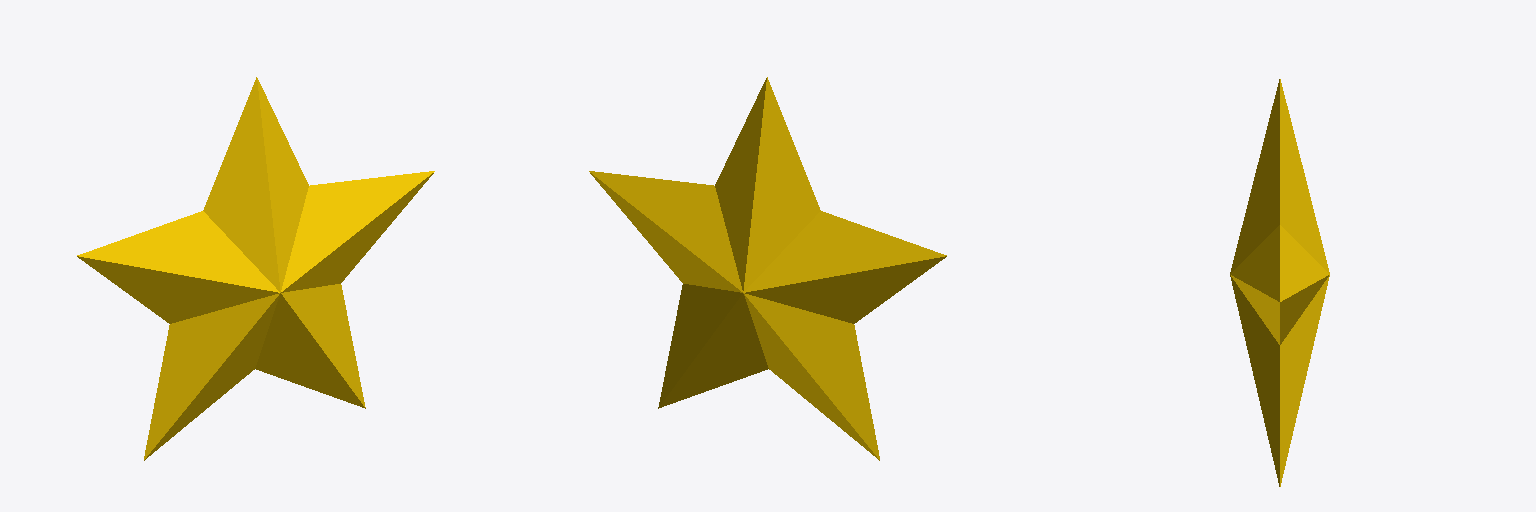
The model's file is Star_01.obj.
3 views of the same model, side by side, from view 1: azimuth 30°, elevation 25°; view 2: azimuth 150°, elevation 25°; view 3: azimuth 270°, elevation 25° (orthographic).
Parts seen in each view (by area): view 1: pCylinder3; view 2: pCylinder3; view 3: pCylinder3.
Boxes of the visible parts, x1=… form: pCylinder3: x1=77, y1=77, x2=434, y2=460; pCylinder3: x1=589, y1=77, x2=946, y2=460; pCylinder3: x1=1230, y1=79, x2=1329, y2=486.
Bounding box in the file's own units: 0.2035 × 0.194 × 0.0491.